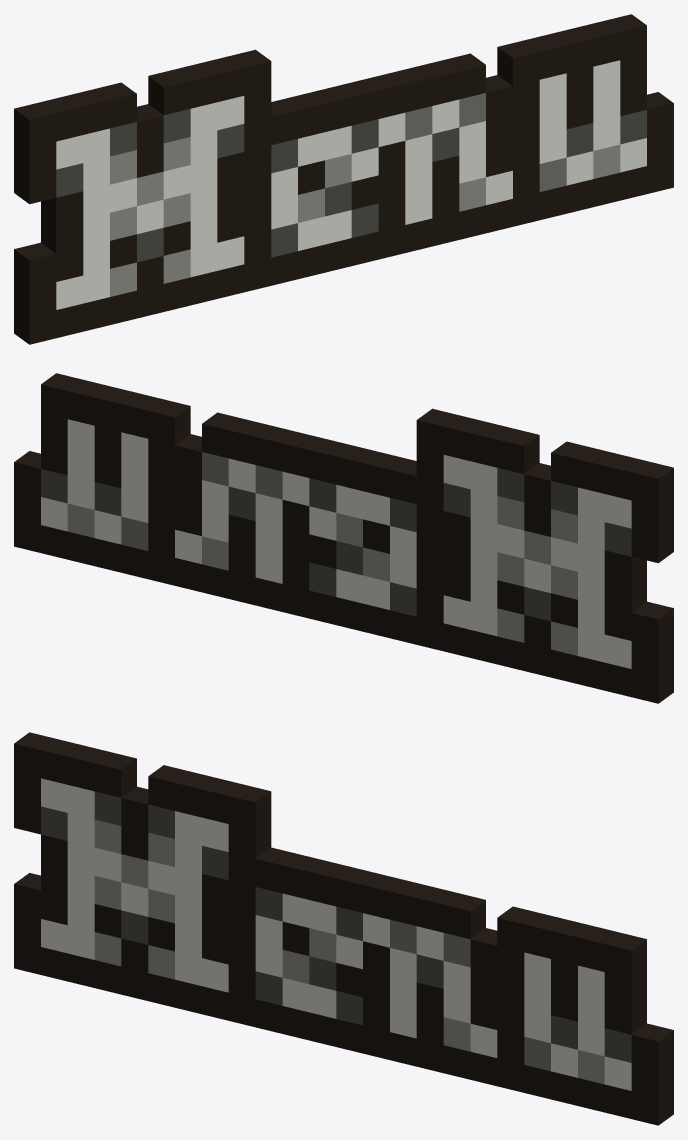
File: LabelMenu.fbx
The picture shows the model from 3 angles, top to bottom: view 1: azimuth 30°, elevation 25°; view 2: azimuth 150°, elevation 25°; view 3: azimuth 330°, elevation 25°; orthographic projection.
Parts seen in each view (by area): view 1: Union_part; view 2: Union_part; view 3: Union_part.
Part boxes in pixels (box(x1,y1,x2,y2)): Union_part: box(14, 14, 673, 344); Union_part: box(14, 373, 673, 703); Union_part: box(14, 732, 673, 1125).
Bounding box in the file's own units: 24 × 8 × 1.
Materials: 1 (1 with a texture image).
